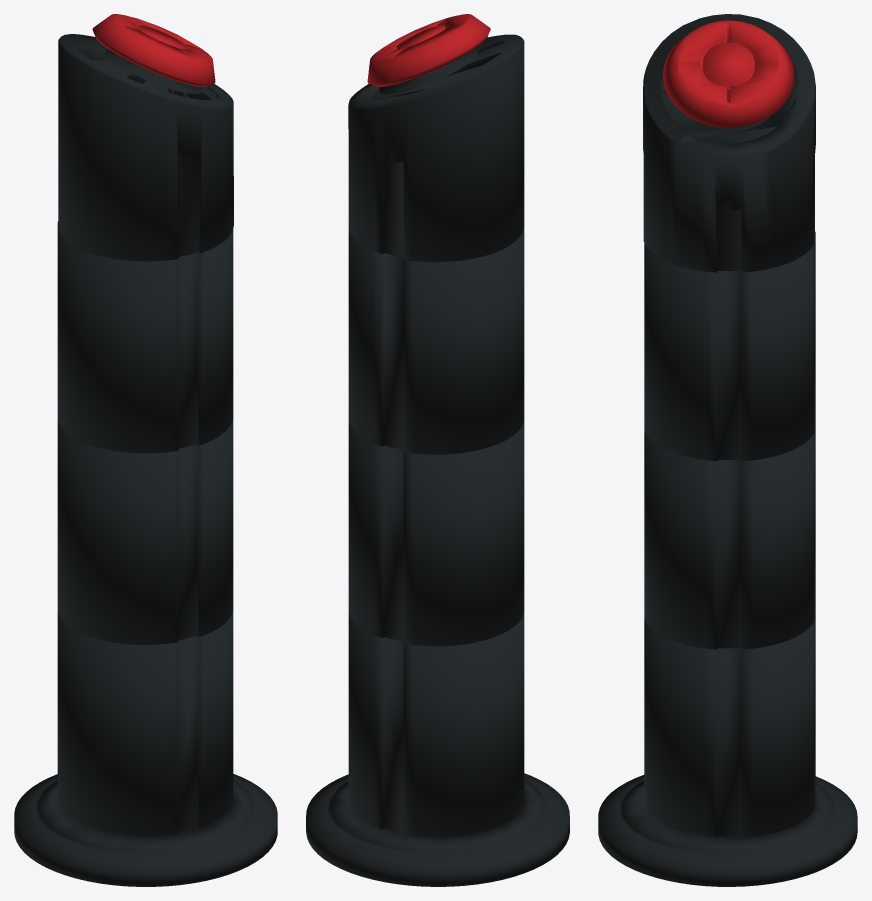
The model's file is untitledButton.fbx.
3 renders of one model, left to right at view 1: azimuth 30°, elevation 25°; view 2: azimuth 150°, elevation 25°; view 3: azimuth 270°, elevation 25°, orthographic.
Parts seen in each view (by area): view 1: Foot, Red_Button_Stl; view 2: Foot, Red_Button_Stl; view 3: Foot, Red_Button_Stl.
Part boxes in pixels (x1=…): Foot: x1=14, y1=34, x2=277, y2=886; Red_Button_Stl: x1=92, y1=14, x2=215, y2=86; Foot: x1=306, y1=34, x2=569, y2=886; Red_Button_Stl: x1=367, y1=14, x2=490, y2=86; Foot: x1=598, y1=14, x2=857, y2=886; Red_Button_Stl: x1=663, y1=20, x2=794, y2=127.
Size of the model in its own units: 35.65 by 121 by 35.64.
